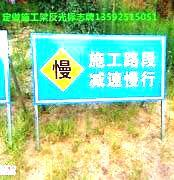sign: (33, 35, 162, 100)
